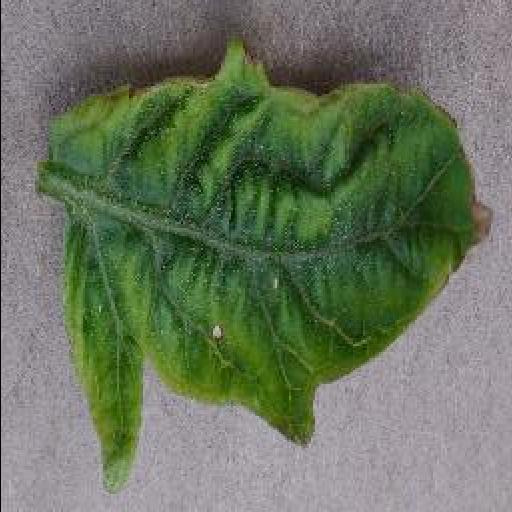disease_tomato: (44, 39, 490, 492)
